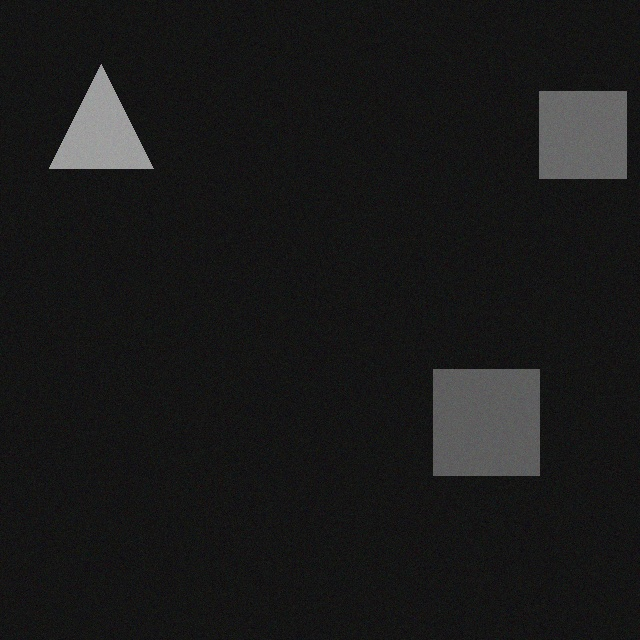square: (425, 377, 531, 483), (531, 99, 618, 186)
triangle: (41, 72, 145, 176)
